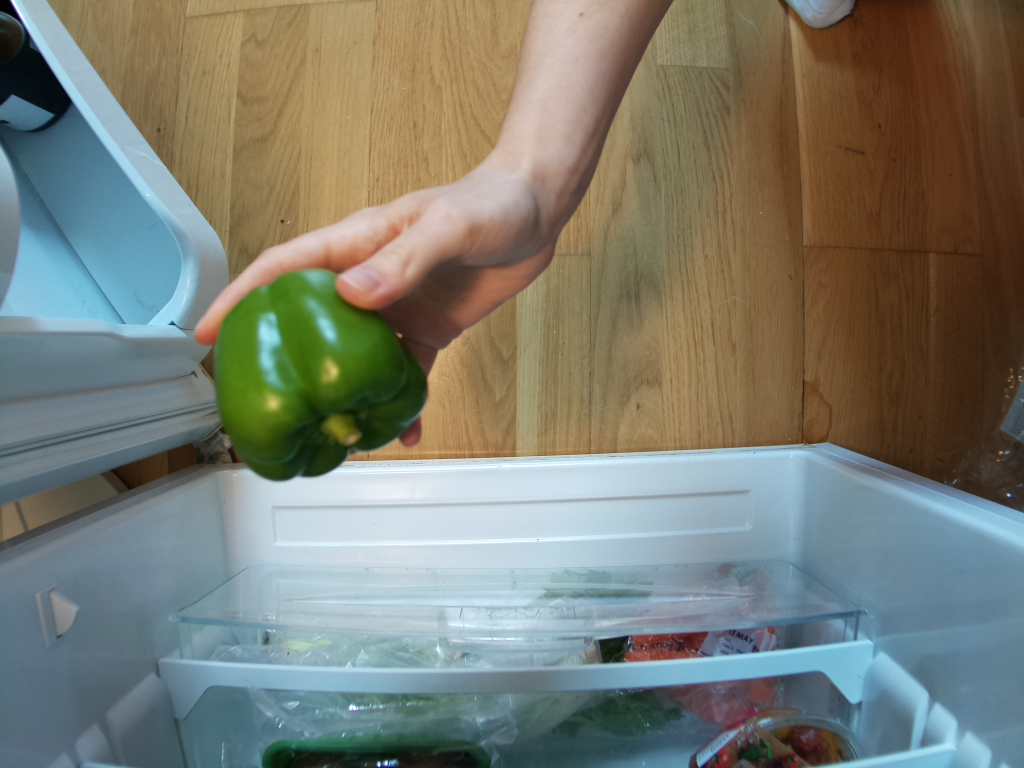pepper: (211, 267, 426, 482)
